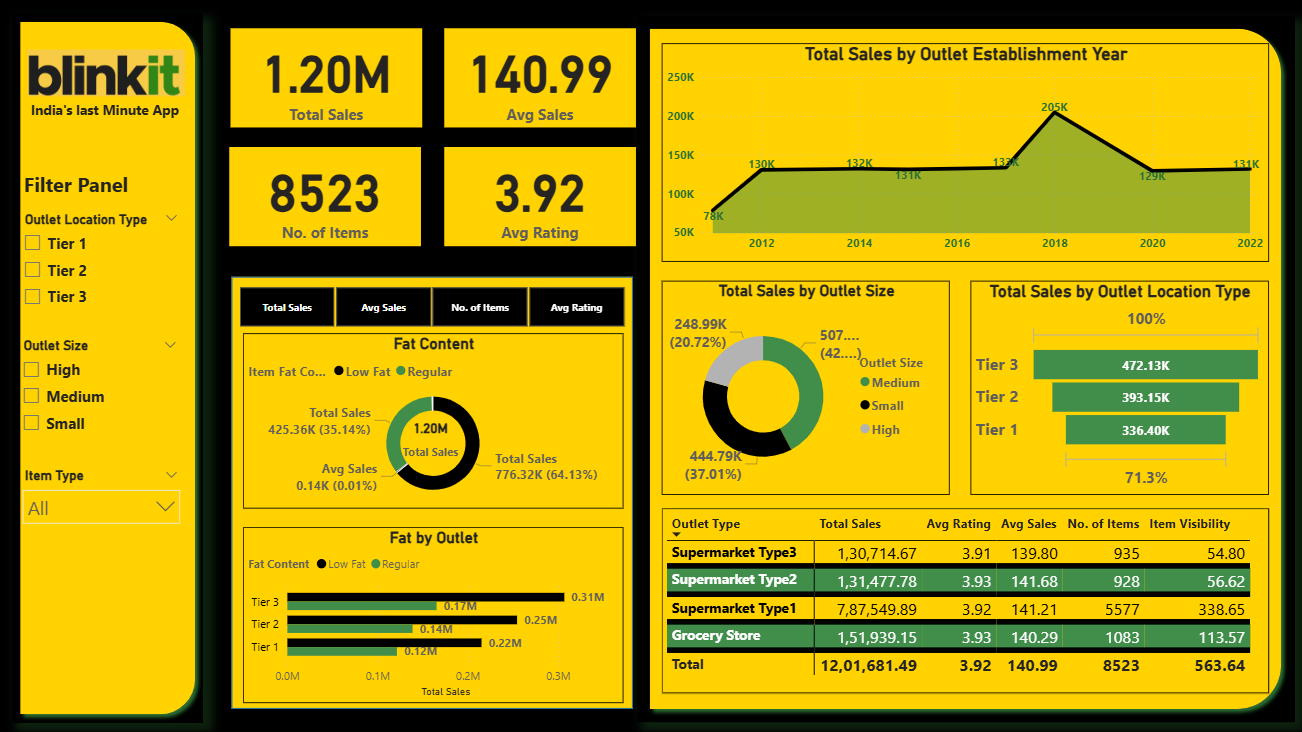

Layout of this report page (visuals, bound fields, positions):
{"tool":"powerbi","page":{"name":"Page 1","canvas":[1400,800],"ordinal":0},"visuals":[{"type":"shape","box":[15,22.5,205.6,760.9],"z":0},{"type":"image","box":[27,45,178.6,82.5],"z":1000},{"type":"textbox","box":[15,111.1,199.6,34.5],"z":2000},{"type":"card","fields":{"Values":["BlinkIT Grocery Data.Total Sales"]},"box":[249.1,39,205.6,106.6],"z":3000},{"type":"card","fields":{"Values":["BlinkIT Grocery Data.Avg Sales"]},"box":[478.8,39,205.6,106.6],"z":4000},{"type":"card","fields":{"Values":["BlinkIT Grocery Data.No. of Items"]},"box":[247.6,166.6,205.6,106.6],"z":5000},{"type":"card","fields":{"Values":["BlinkIT Grocery Data.Avg Rating"]},"box":[478.8,166.6,205.6,106.6],"z":6000},{"type":"shape","box":[247.6,303.2,436.8,469.8],"z":7000},{"type":"shape","box":[684.4,25.5,705.4,757.9],"z":8000},{"type":"lineChart","fields":{"Y":["BlinkIT Grocery Data.Total Sales"],"Category":["BlinkIT Grocery Data.Outlet Establishment Year"]},"box":[711.4,55.5,651.4,234.1],"z":9000},{"type":"donutChart","fields":{"Y":["BlinkIT Grocery Data.Total Sales"],"Category":["BlinkIT Grocery Data.Outlet Size"]},"box":[711.4,309.2,309.2,229.6],"z":10000},{"type":"funnel","fields":{"Y":["BlinkIT Grocery Data.Total Sales"],"Category":["BlinkIT Grocery Data.Outlet Location Type"]},"box":[1043.1,309.2,319.7,229.6],"z":11000},{"type":"pivotTable","fields":{"Values":["BlinkIT Grocery Data.Total Sales","BlinkIT Grocery Data.Avg Rating","BlinkIT Grocery Data.Avg Sales","BlinkIT Grocery Data.No. of Items","Sum(BlinkIT Grocery Data.Item Visibility)"],"Rows":["BlinkIT Grocery Data.Outlet Type"]},"box":[711.4,553.8,651.4,198.1],"z":12000},{"type":"slicer","fields":{"Values":["BlinkIT Grocery Data.Outlet Location Type"]},"box":[16.5,231.1,189.1,117.1],"z":13000},{"type":"slicer","fields":{"Values":["BlinkIT Grocery Data.Outlet Size"]},"box":[15,366.2,189.1,117.1],"z":14000},{"type":"slicer","fields":{"Values":["BlinkIT Grocery Data.Item Type"]},"box":[16.5,505.8,189.1,67.5],"z":15000},{"type":"textbox","box":[16.5,186.1,135.1,45],"z":16000},{"type":"donutChart","title":"Fat Content","fields":{"Y":["BlinkIT Grocery Data.Total Sales","BlinkIT Grocery Data.Avg Sales","BlinkIT Grocery Data.No. of Items","BlinkIT Grocery Data.Avg Rating"],"Category":["BlinkIT Grocery Data.Item Fat Content"]},"box":[262.7,366.2,408.2,187.6],"z":17000},{"type":"slicer","fields":{"Values":["Metrics.Metrics"]},"box":[232.6,309.2,462,55.5],"z":18000},{"type":"card","fields":{"Values":["BlinkIT Grocery Data.Total Sales"]},"box":[418.7,424.7,91.6,105.1],"z":19000},{"type":"clusteredBarChart","title":"Fat by Outlet ","fields":{"Y":["BlinkIT Grocery Data.Total Sales"],"Category":["BlinkIT Grocery Data.Outlet Location Type"],"Series":["BlinkIT Grocery Data.Item Fat Content"]},"box":[262.7,573.3,408.2,189.1],"z":20000}]}

Visuals, with their boxes in screenshot pixels (x1, y1, x2, y2), scaled from the page's 1400x800 canvas onto the 1302x732 screenshot:
shape: 14, 21, 205, 717
image: 25, 41, 191, 117
textbox: 14, 102, 200, 133
card - BlinkIT Grocery Data.Total Sales: 232, 36, 423, 133
card - BlinkIT Grocery Data.Avg Sales: 445, 36, 636, 133
card - BlinkIT Grocery Data.No. of Items: 230, 152, 421, 250
card - BlinkIT Grocery Data.Avg Rating: 445, 152, 636, 250
shape: 230, 277, 636, 707
shape: 636, 23, 1293, 717
lineChart - BlinkIT Grocery Data.Total Sales x BlinkIT Grocery Data.Outlet Establishment Year: 662, 51, 1267, 265
donutChart - BlinkIT Grocery Data.Total Sales x BlinkIT Grocery Data.Outlet Size: 662, 283, 949, 493
funnel - BlinkIT Grocery Data.Total Sales x BlinkIT Grocery Data.Outlet Location Type: 970, 283, 1267, 493
pivotTable - BlinkIT Grocery Data.Total Sales x BlinkIT Grocery Data.Avg Rating: 662, 507, 1267, 688
slicer - BlinkIT Grocery Data.Outlet Location Type: 15, 211, 191, 319
slicer - BlinkIT Grocery Data.Outlet Size: 14, 335, 190, 442
slicer - BlinkIT Grocery Data.Item Type: 15, 463, 191, 525
textbox: 15, 170, 141, 211
"Fat Content" donutChart: 244, 335, 624, 507
slicer - Metrics.Metrics: 216, 283, 646, 334
card - BlinkIT Grocery Data.Total Sales: 389, 389, 475, 485
"Fat by Outlet " clusteredBarChart: 244, 525, 624, 698
